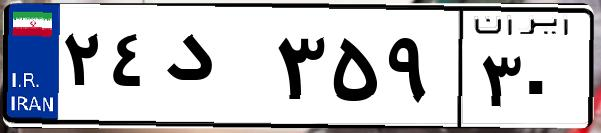0: (525, 38, 570, 115)
2: (57, 26, 110, 100)
3: (270, 28, 330, 110), (475, 38, 525, 113)
4: (110, 28, 158, 98)
5: (330, 28, 385, 110)
9: (385, 28, 445, 110)
د: (158, 20, 270, 120)
